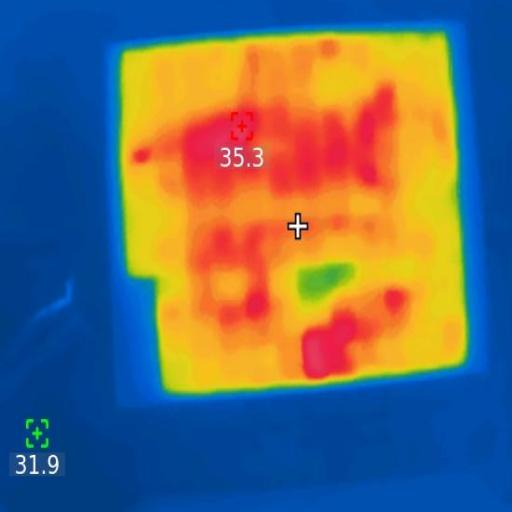hotspot: (181, 104, 383, 200), (299, 315, 366, 379), (131, 144, 157, 175), (379, 287, 409, 313)
